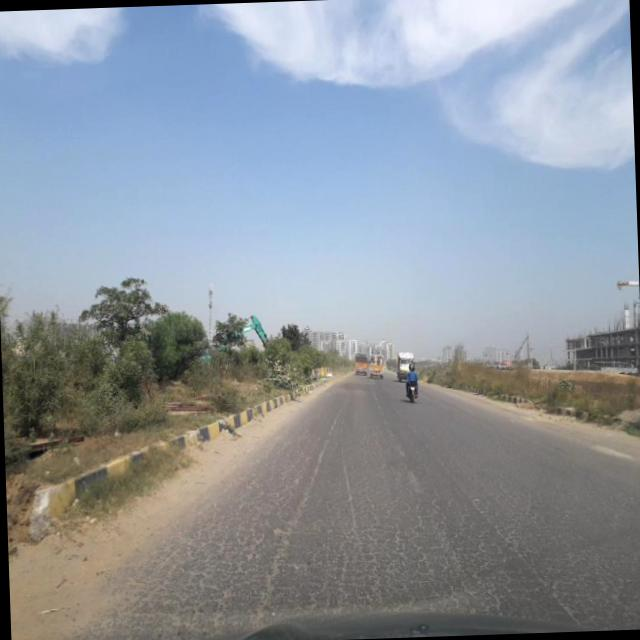crack: (138, 452, 640, 638)
pothole: (404, 415, 572, 624), (255, 406, 346, 608)
